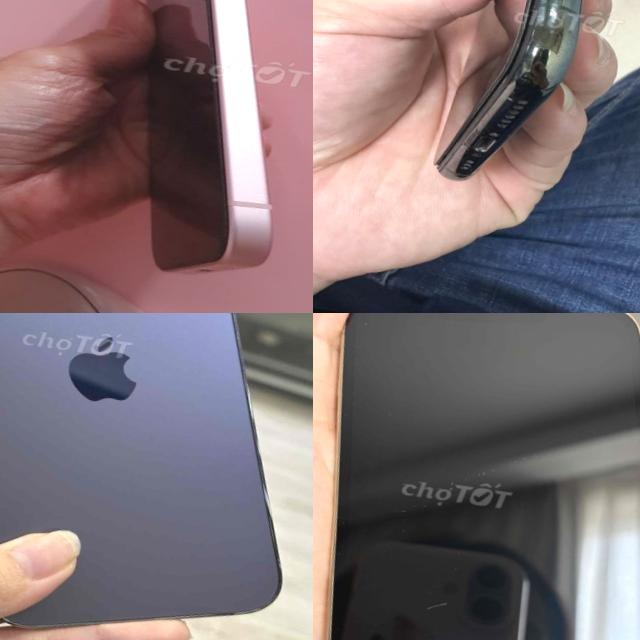gen_11: (427, 0, 640, 180)
gen_12_13: (313, 313, 640, 640)
gen_14: (0, 313, 313, 640)
gen_15: (70, 0, 313, 289)
